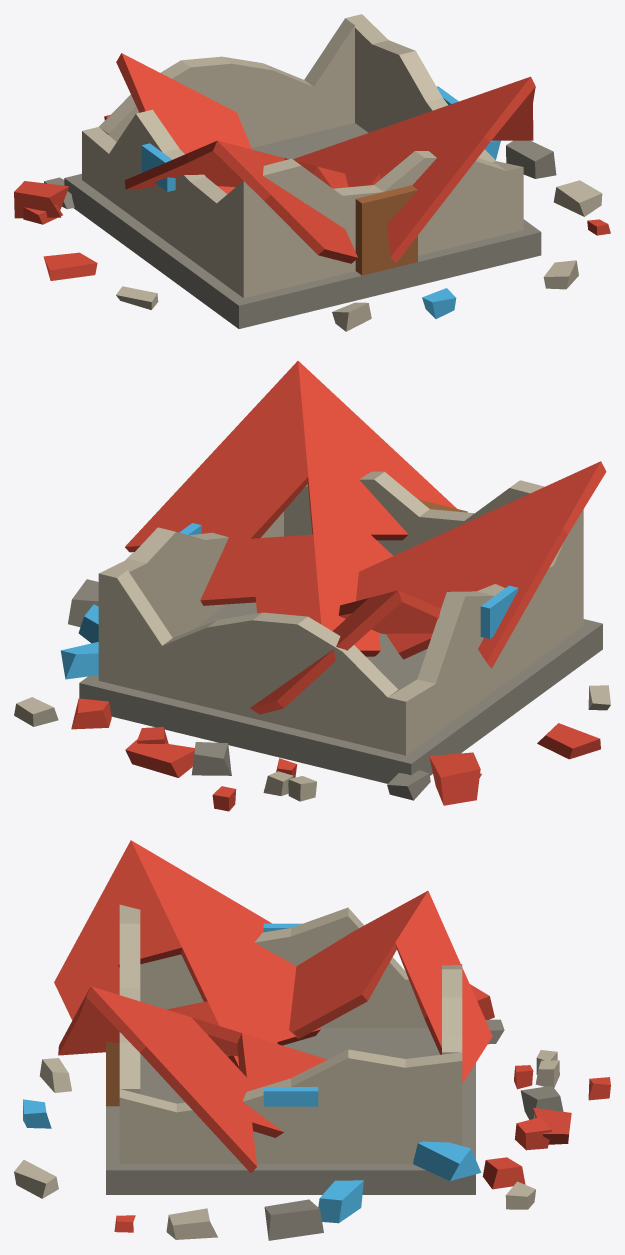
The model's file is house_t1_v3_dmg2.glb.
3 views of the same model, one above another, from view 1: azimuth 30°, elevation 25°; view 2: azimuth 150°, elevation 25°; view 3: azimuth 270°, elevation 25° (orthographic). The views are drawn at different scales.
Visible parts, largest first — view 1: house_t1_v3_dmg2; view 2: house_t1_v3_dmg2; view 3: house_t1_v3_dmg2.
Boxes of the visible parts, <box> form: house_t1_v3_dmg2: <box>14,14,610,331</box>; house_t1_v3_dmg2: <box>14,361,610,811</box>; house_t1_v3_dmg2: <box>14,840,610,1240</box>.
Size of the model in its own units: 0.873 by 0.3215 by 0.8708.
Materials: 1 (1 with a texture image).
